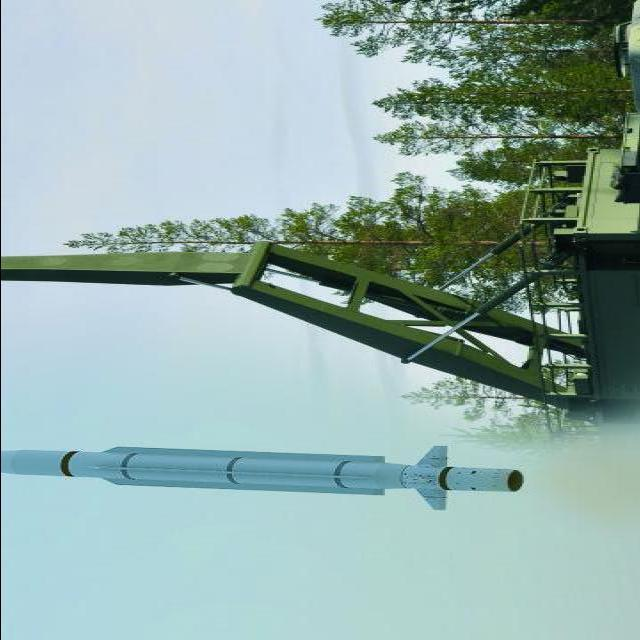Missile: (0, 440, 540, 521)
